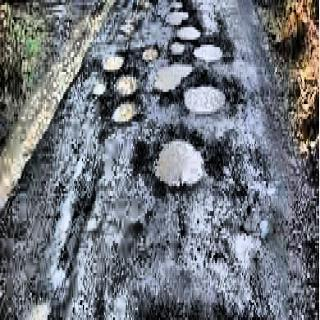pothole: (150, 138, 218, 212), (53, 149, 90, 266), (180, 78, 246, 134), (159, 1, 207, 36), (153, 58, 189, 103), (110, 102, 144, 144), (191, 40, 234, 73), (27, 286, 61, 320), (100, 38, 130, 76), (136, 33, 163, 66), (115, 68, 144, 94), (164, 35, 188, 64), (90, 75, 108, 108)
